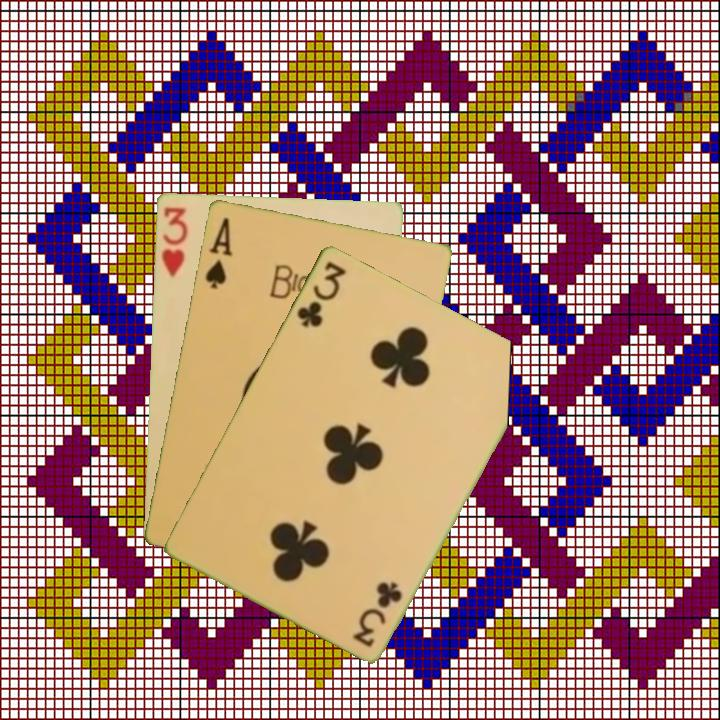3c: (293, 257, 349, 330), (351, 577, 405, 649)
3h: (157, 202, 190, 280)
As: (201, 213, 235, 291)
